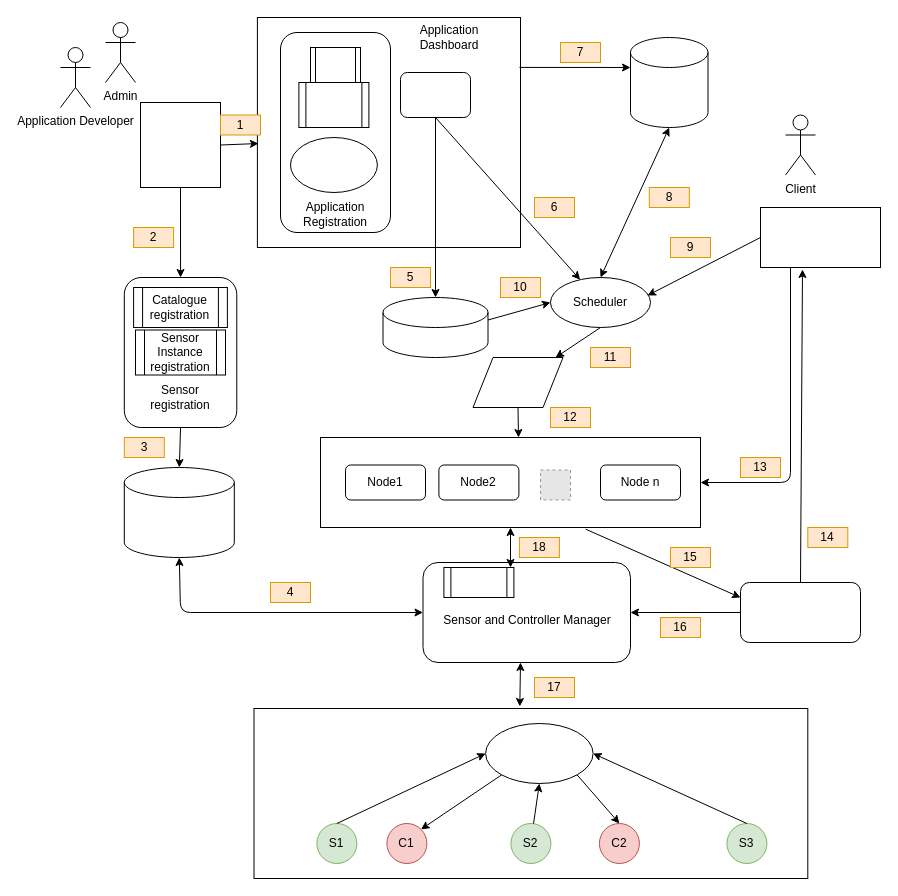
This 898x896 diagram has some shape labels left out. Grey dashed boxes stand in for pictures. Each missing label, with the centre of its shape:
"Action Manager" goes at (800,612).
"Application Repo" goes at (669,82).
"Authentication Gateway" goes at (180,145).
"Client Manager" goes at (820,237).
"config file upload" goes at (333,105).
"Data Binding" goes at (478,582).
"Deployer" goes at (517,382).
"download config format" goes at (333,164).
"Gateway" goes at (539,753).
"Scheduling Db" goes at (435,327).
"Scheduling panel" goes at (435,95).
"Sensor & controller registry Repo" goes at (178,512).
"upload zip" goes at (335,64).
